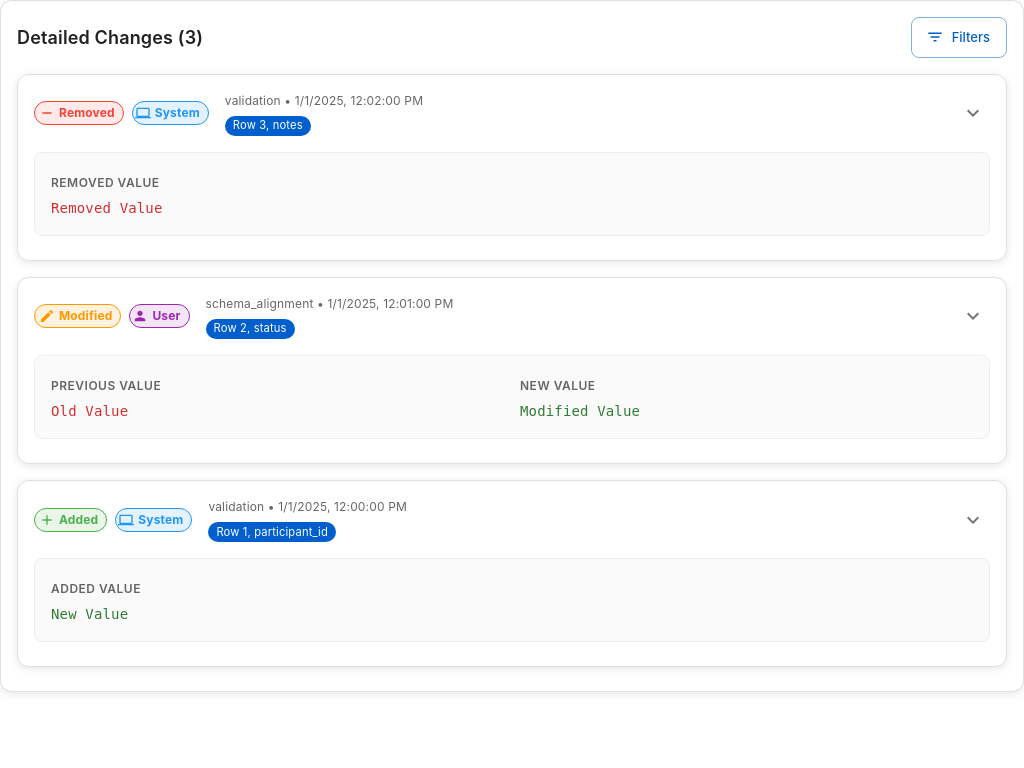
Scenario: DetailedChangesList › Change Expansion › should collapse expanded details when clicked again
Expand then collapse
Click the button with test id "ExpandMoreIcon".
click(973, 113)  # box [956,96,990,130]
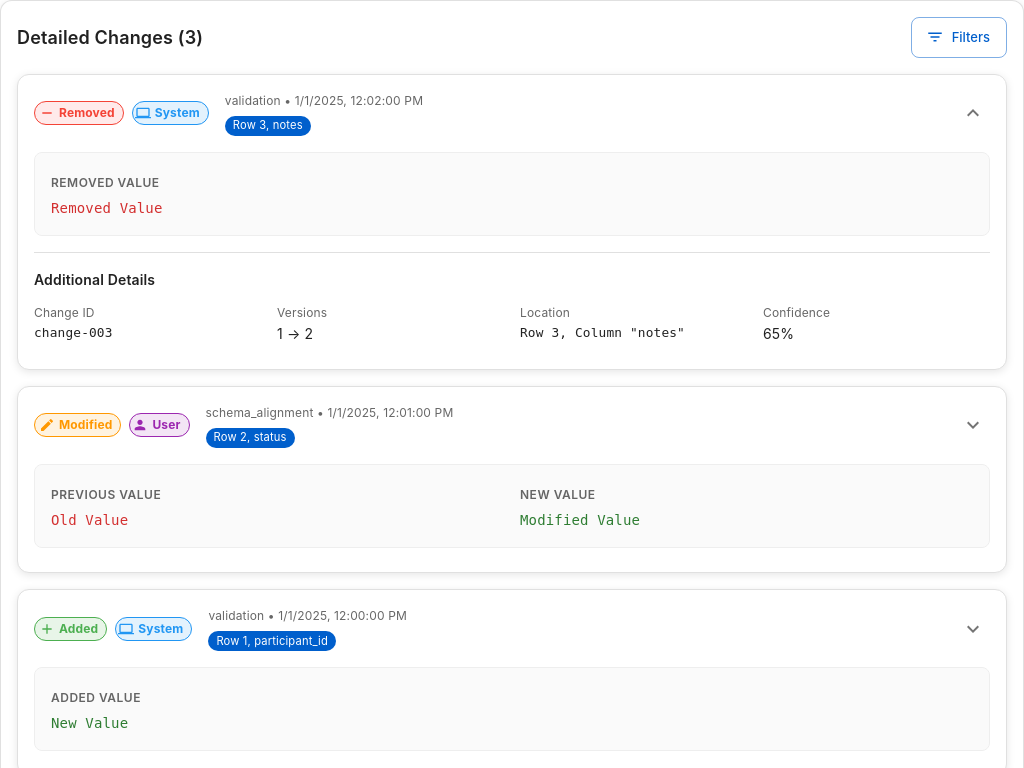
Expected: the heading "Additional Details" is shown, [34,271,155,288]
Click the button with test id "ExpandLessIcon".
click(973, 113)  # box [956,96,990,130]
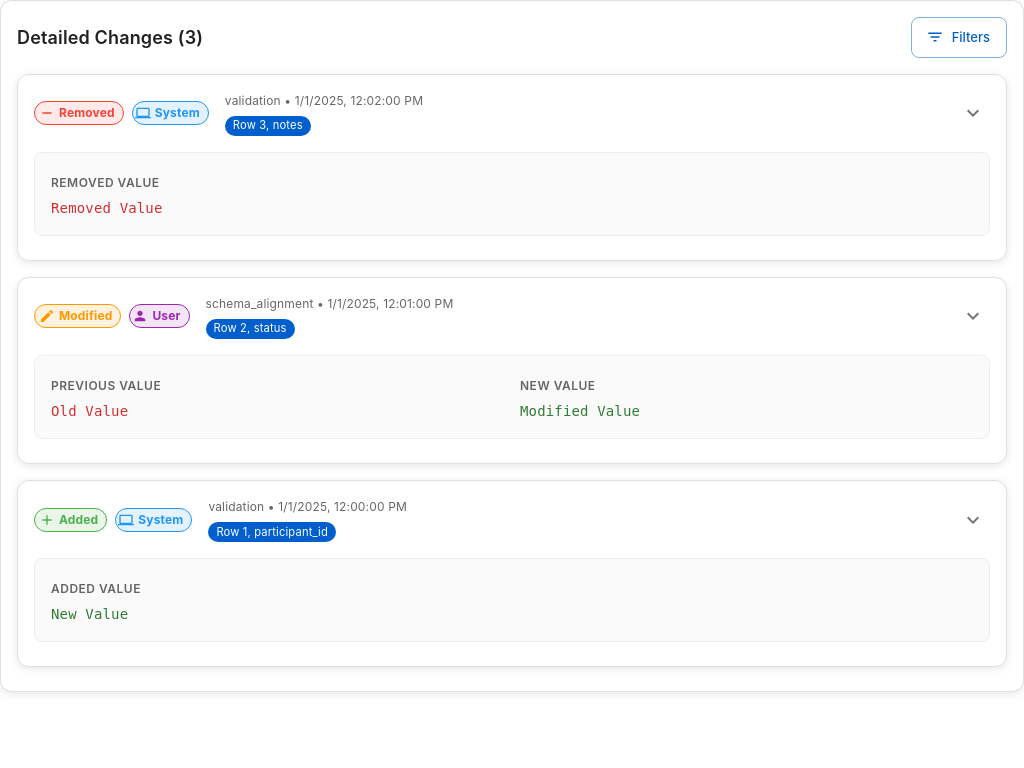
Expected: the number of icons with test id "ExpandMoreIcon" is 3, [961,101,985,125]; [961,304,985,328]; [961,508,985,532]
